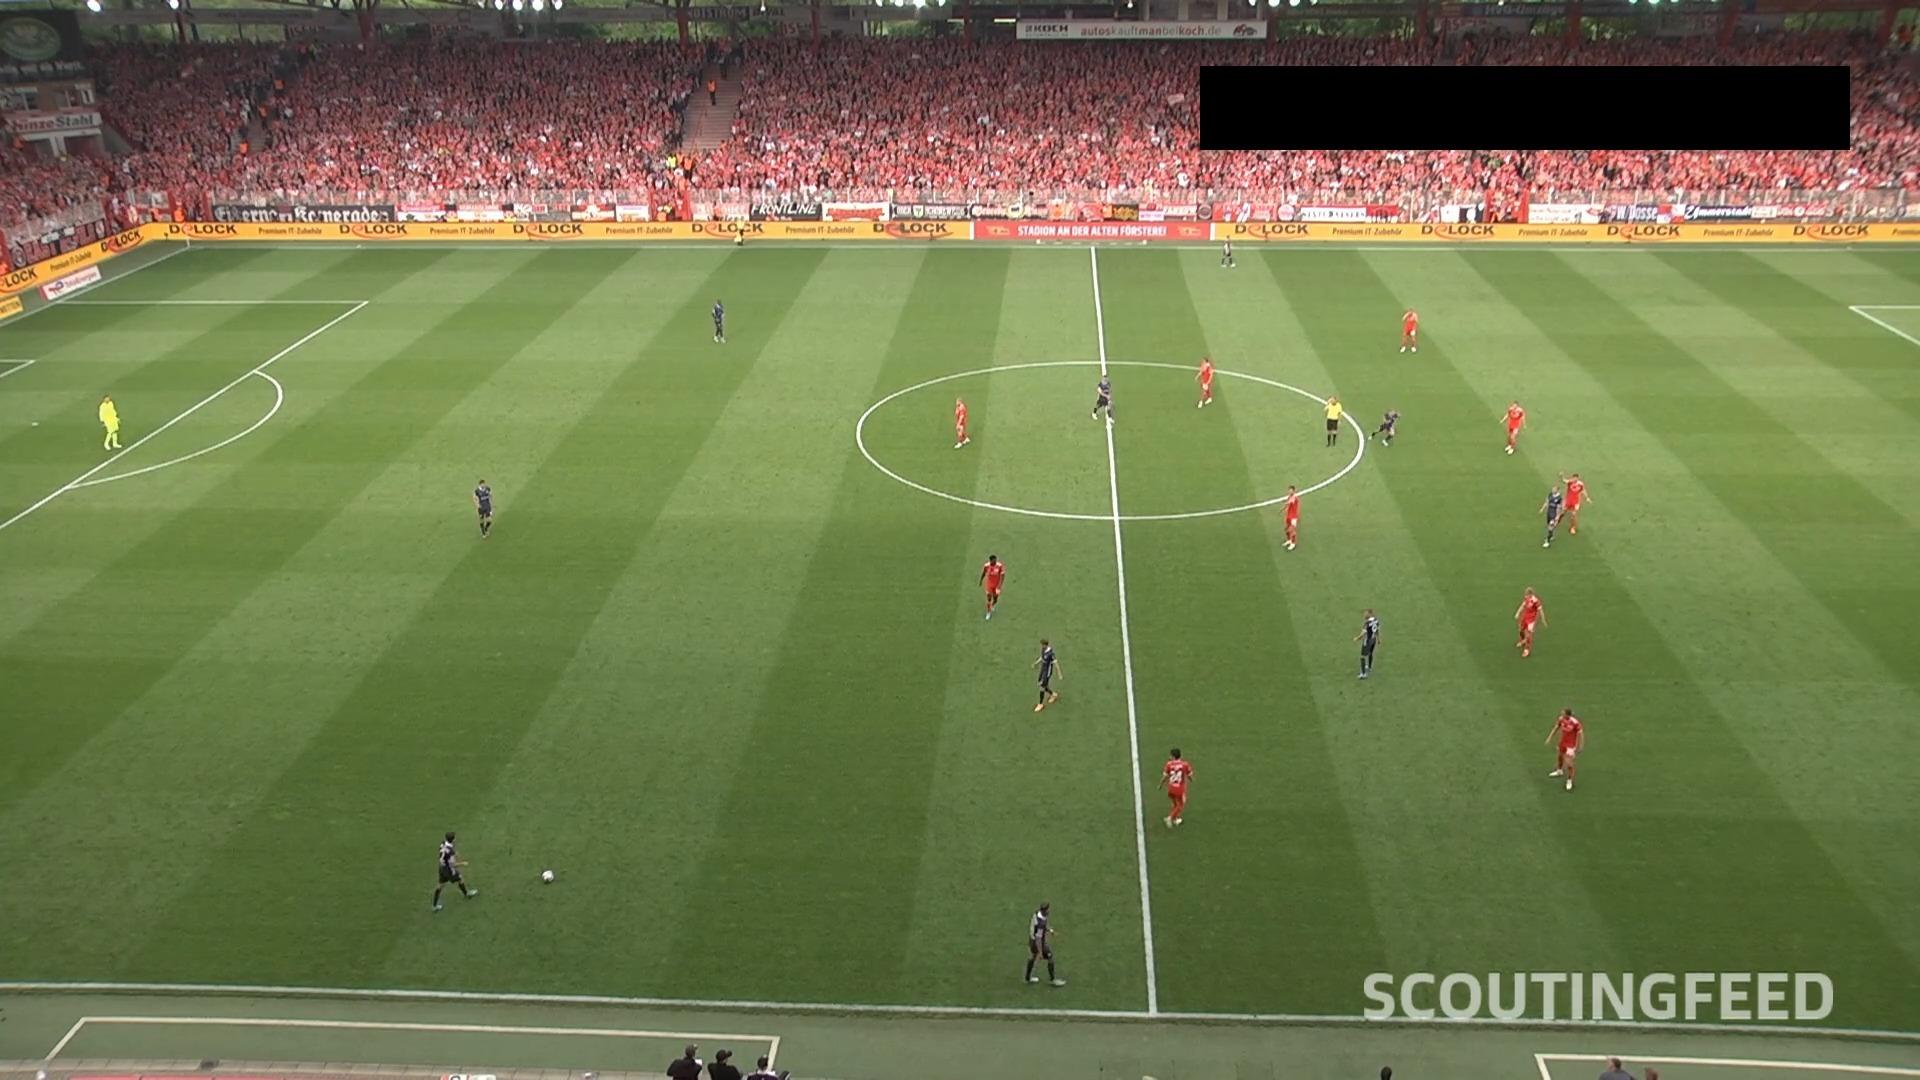ball: (541, 869, 555, 885)
